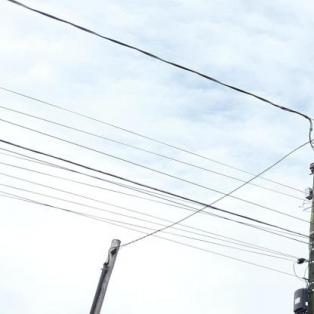Poste: (282, 25, 313, 314)
